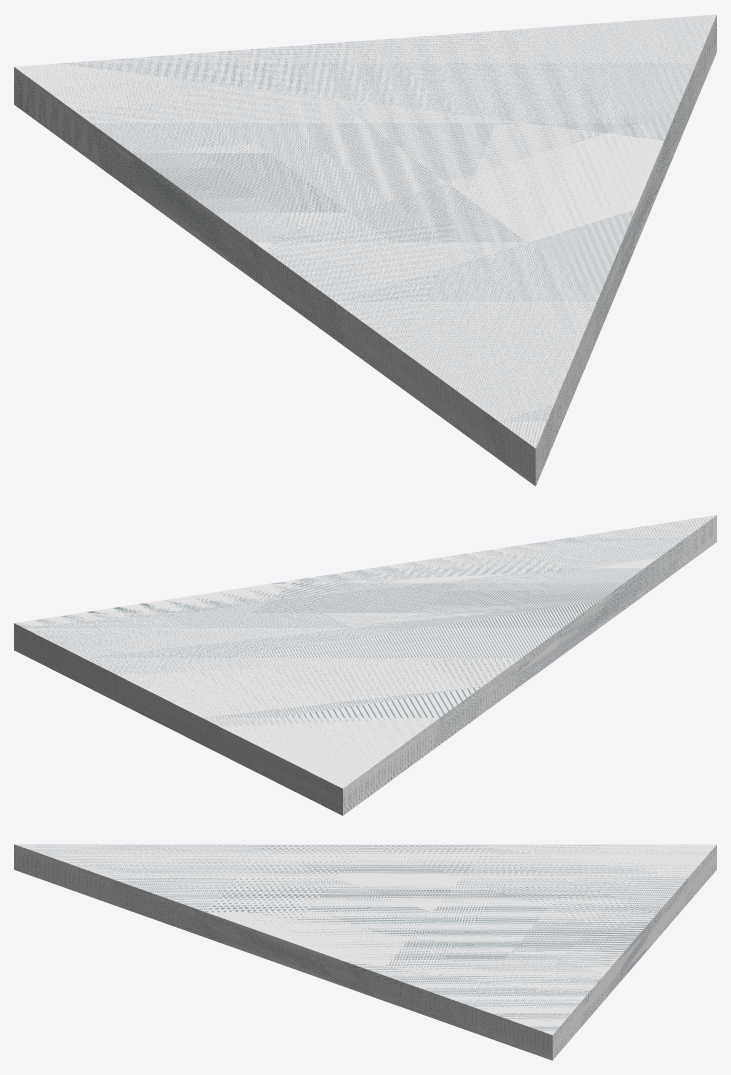
Rendered from triangle 40 deg.fbx.
3 renders of one model, top to bottom at view 1: azimuth 30°, elevation 25°; view 2: azimuth 150°, elevation 25°; view 3: azimuth 270°, elevation 25°, orthographic. The views are drawn at different scales.
Visible parts, largest first — view 1: Model; view 2: Model; view 3: Model.
Part boxes in pixels (bbox=[...]): Model: bbox=[14, 14, 716, 486]; Model: bbox=[14, 515, 716, 815]; Model: bbox=[14, 844, 716, 1060].
Bounding box in the file's own units: 3.21 × 0.2 × 5.
